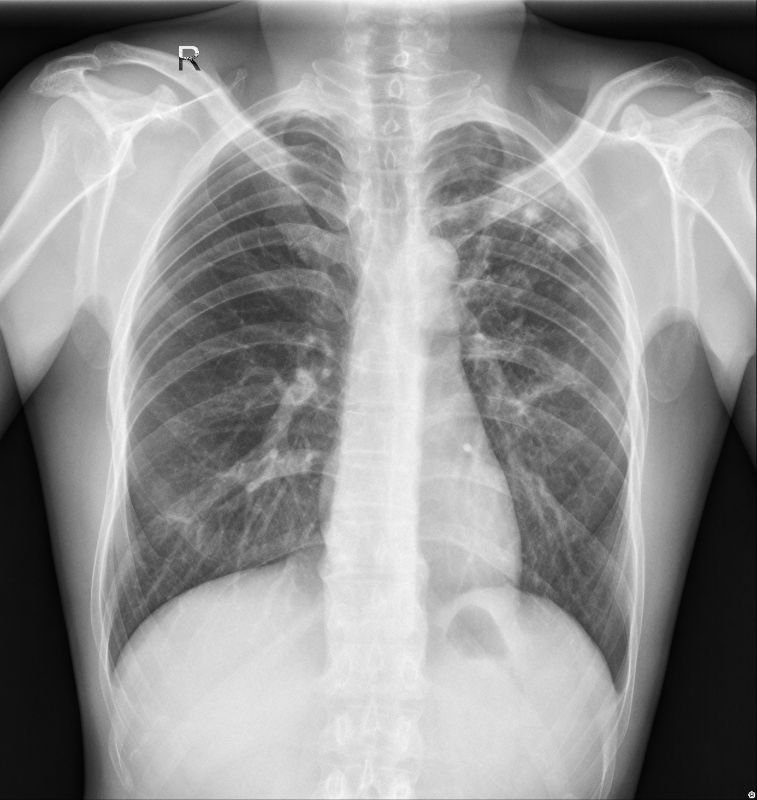Tuberculosis: (486, 178, 598, 274)
